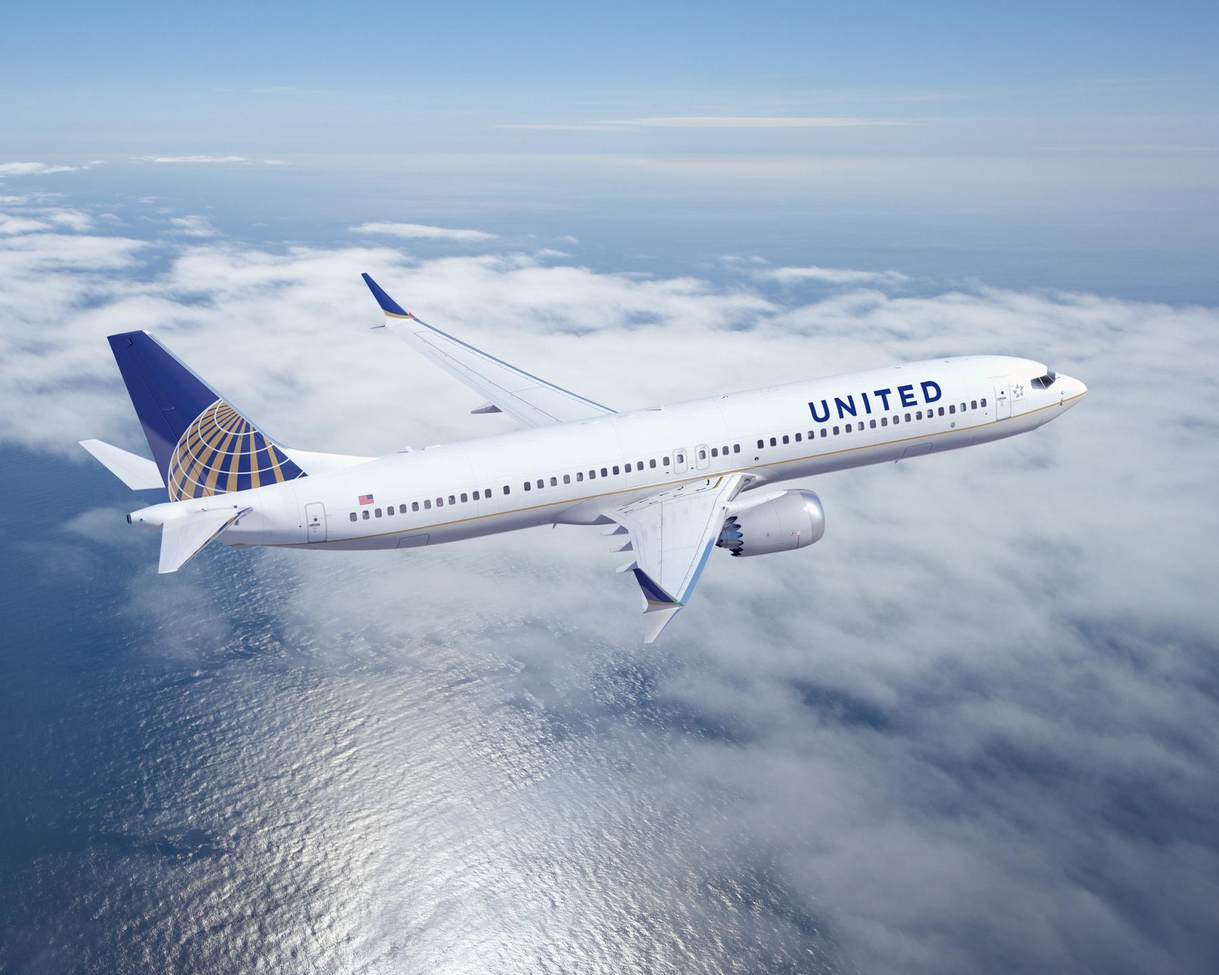aircraft: (69, 274, 1101, 644)
